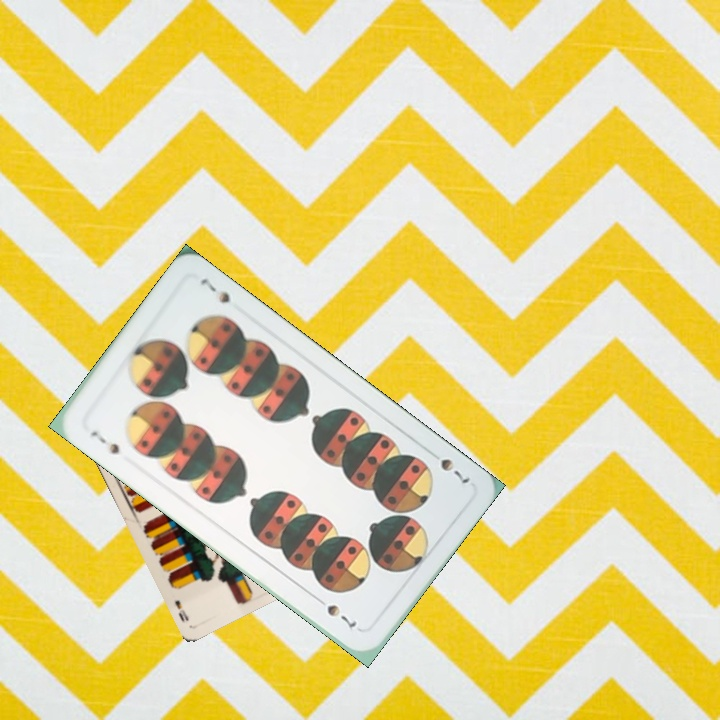S7: (436, 454, 473, 487), (86, 426, 123, 457)
